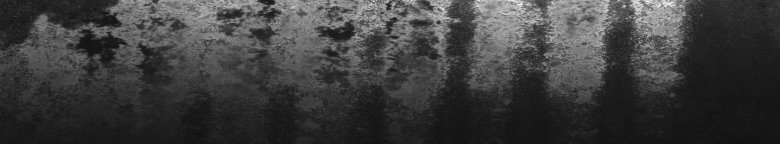kb: (24, 4, 648, 92)
